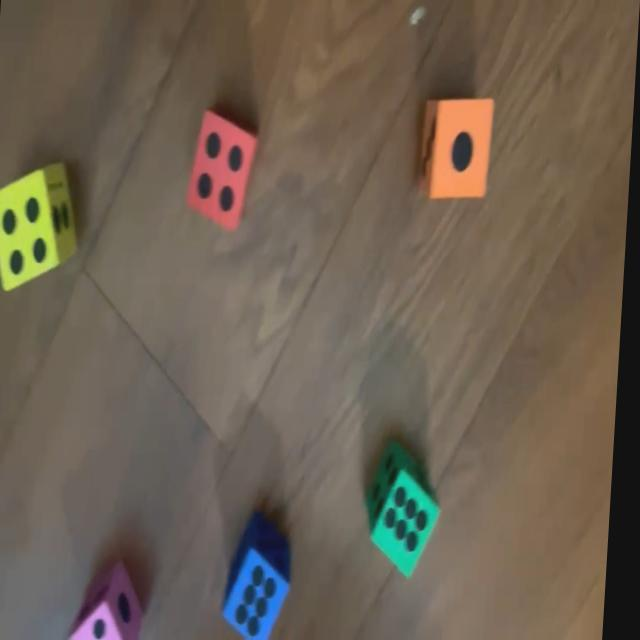cube: (367, 444, 448, 578), (228, 514, 299, 640), (187, 110, 259, 229)
